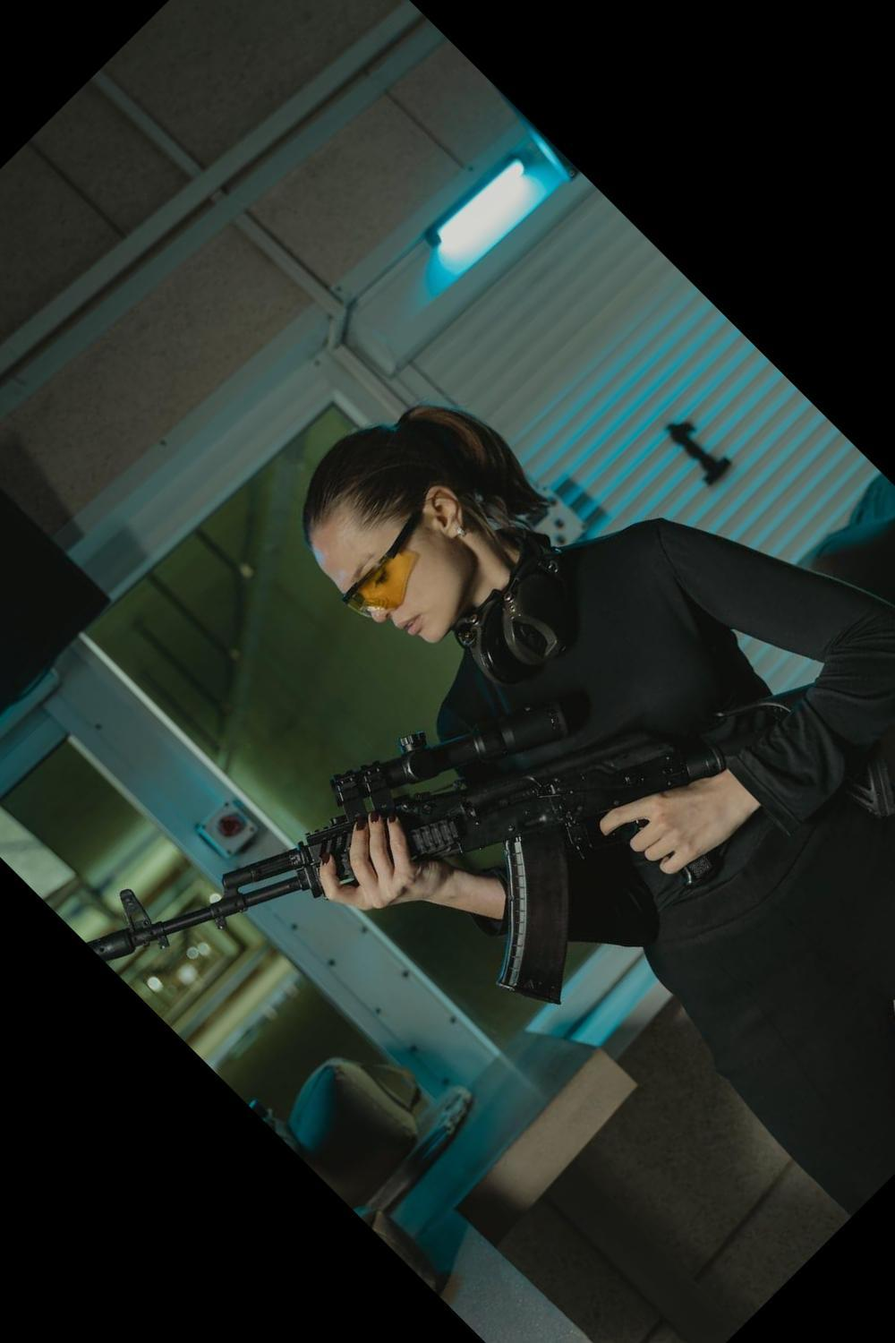larga: (80, 686, 895, 1010)
